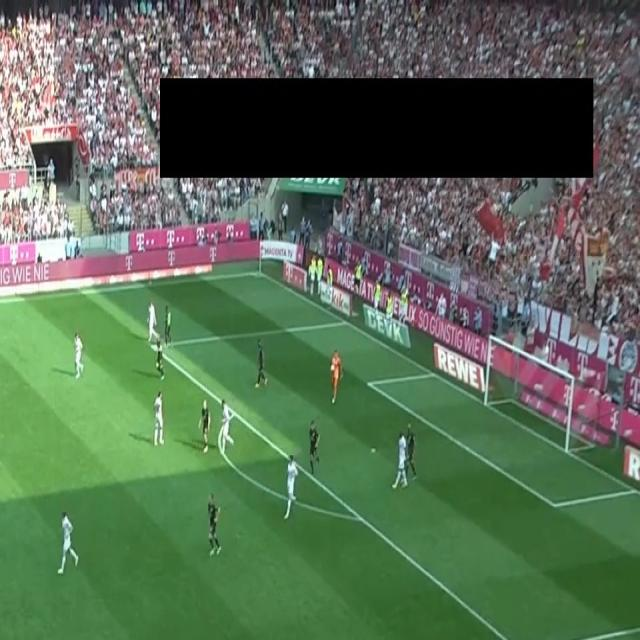ball: (330, 362, 335, 372)
